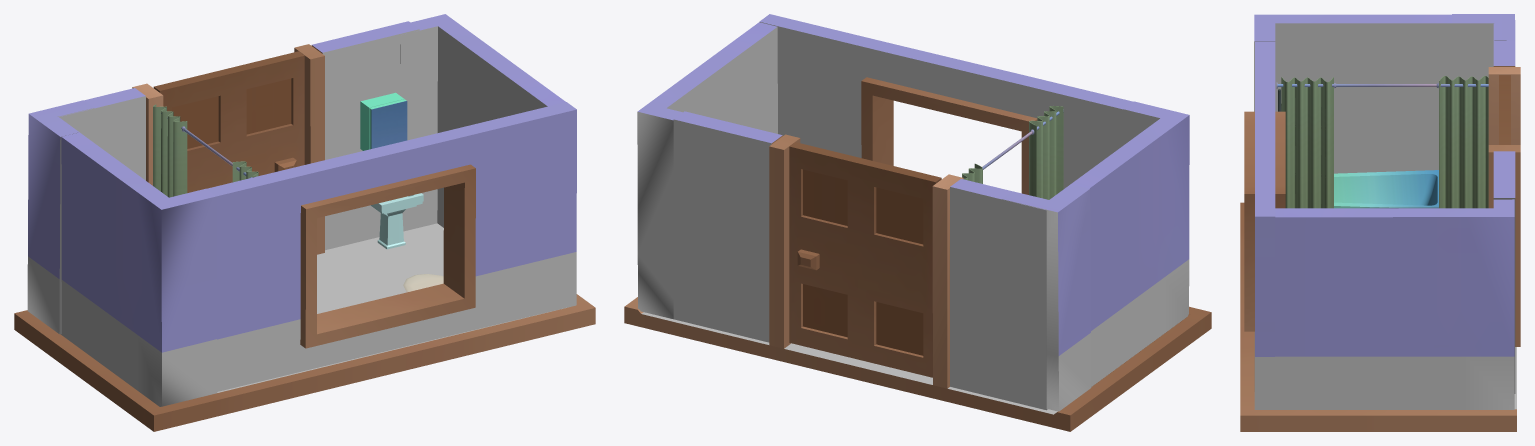
File: BAÑO.fbx
3 views of the same model, side by side, from view 1: azimuth 30°, elevation 25°; view 2: azimuth 150°, elevation 25°; view 3: azimuth 270°, elevation 25° (orthographic). The views are drawn at different scales.
Parts seen in each view (by area): view 1: paret_ventana9, paret_estrecha9, suelo21, paret_puerta54, puerta43, paret_estrecha10, paret_esquina_92, cortina3, cajon3, pica3; view 2: paret_puerta54, puerta43, paret_ventana9, paret_estrecha9, paret_estrecha10, suelo21, paret_esquina_92, cortina3; view 3: paret_estrecha10, paret_estrecha9, cortina3, paret_ventana9, suelo21, paret_puerta54, bañera3, paret_esquina_92, puerta43.
Boxes of the visible parts, bbox=[...] form: paret_ventana9: bbox=[206, 102, 576, 391]; paret_estrecha9: bbox=[58, 117, 217, 406]; suelo21: bbox=[14, 223, 595, 431]; paret_puerta54: bbox=[59, 21, 419, 254]; puerta43: bbox=[153, 51, 304, 192]; paret_estrecha10: bbox=[400, 14, 565, 231]; paret_esquina_92: bbox=[27, 100, 93, 334]; cortina3: bbox=[153, 104, 258, 197]; cajon3: bbox=[360, 92, 407, 150]; pica3: bbox=[371, 193, 423, 249]; paret_puerta54: bbox=[673, 111, 1047, 410]; puerta43: bbox=[789, 142, 941, 377]; paret_ventana9: bbox=[759, 14, 1132, 194]; paret_estrecha9: bbox=[1049, 101, 1189, 386]; paret_estrecha10: bbox=[637, 22, 777, 319]; suelo21: bbox=[624, 297, 1211, 431]; paret_esquina_92: bbox=[1002, 184, 1091, 411]; cortina3: bbox=[962, 106, 1063, 199]; paret_estrecha10: bbox=[1275, 199, 1514, 409]; paret_estrecha9: bbox=[1254, 14, 1493, 173]; cortina3: bbox=[1276, 76, 1488, 208]; paret_ventana9: bbox=[1244, 41, 1285, 409]; suelo21: bbox=[1240, 202, 1516, 431]; paret_puerta54: bbox=[1488, 20, 1520, 393]; bañera3: bbox=[1278, 89, 1438, 208]; paret_esquina_92: bbox=[1452, 14, 1515, 40]; puerta43: bbox=[1499, 75, 1510, 144].
Bounding box in the file's own units: 791 × 365 × 439.
